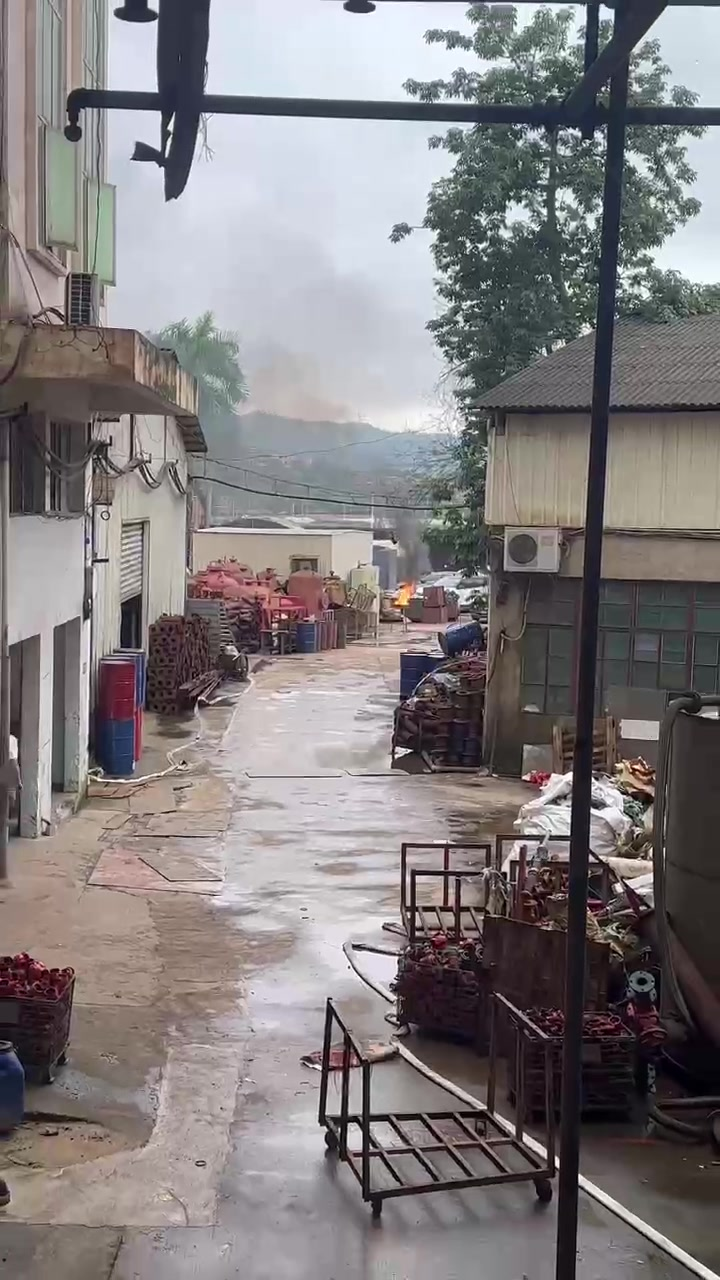fire: (394, 581, 413, 604)
